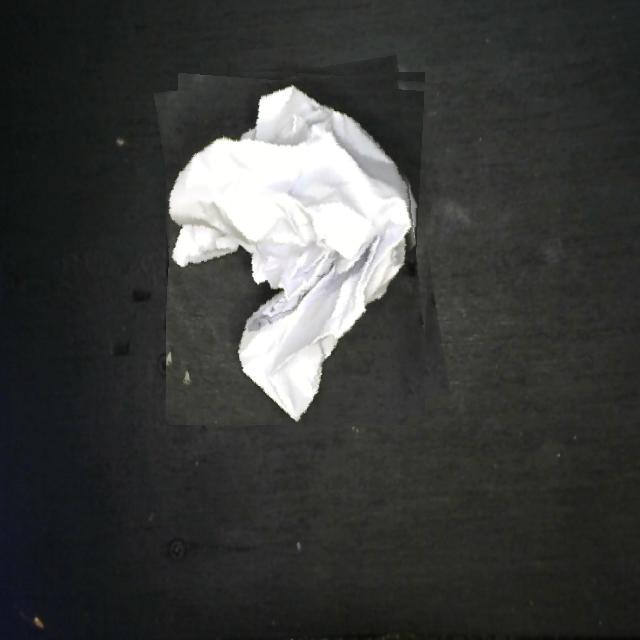biodegradable: (166, 63, 438, 425)
